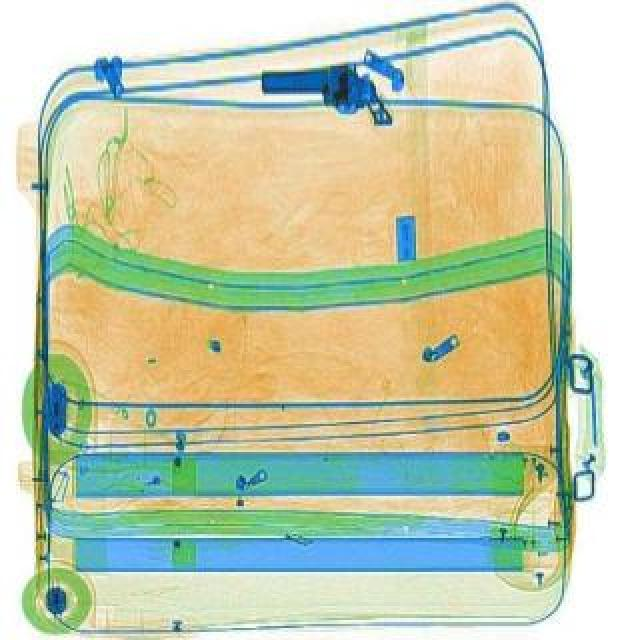gun: (258, 62, 394, 126)
